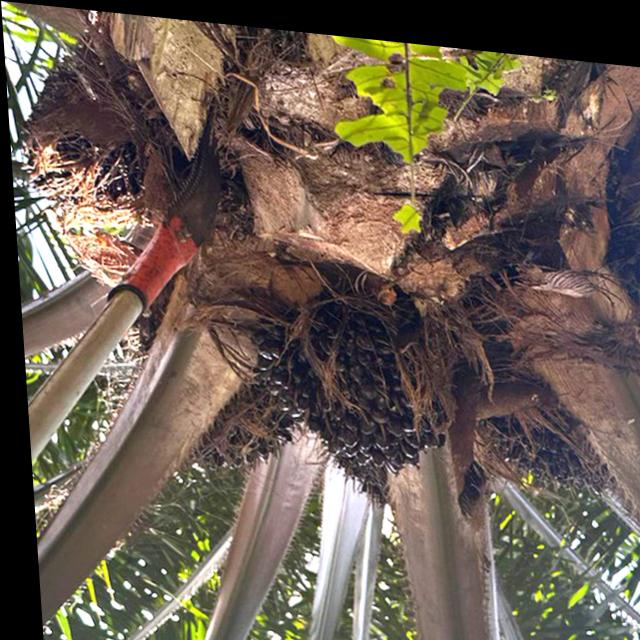unripe: (251, 285, 458, 467), (3, 60, 165, 253), (176, 353, 304, 483), (473, 390, 621, 488)
